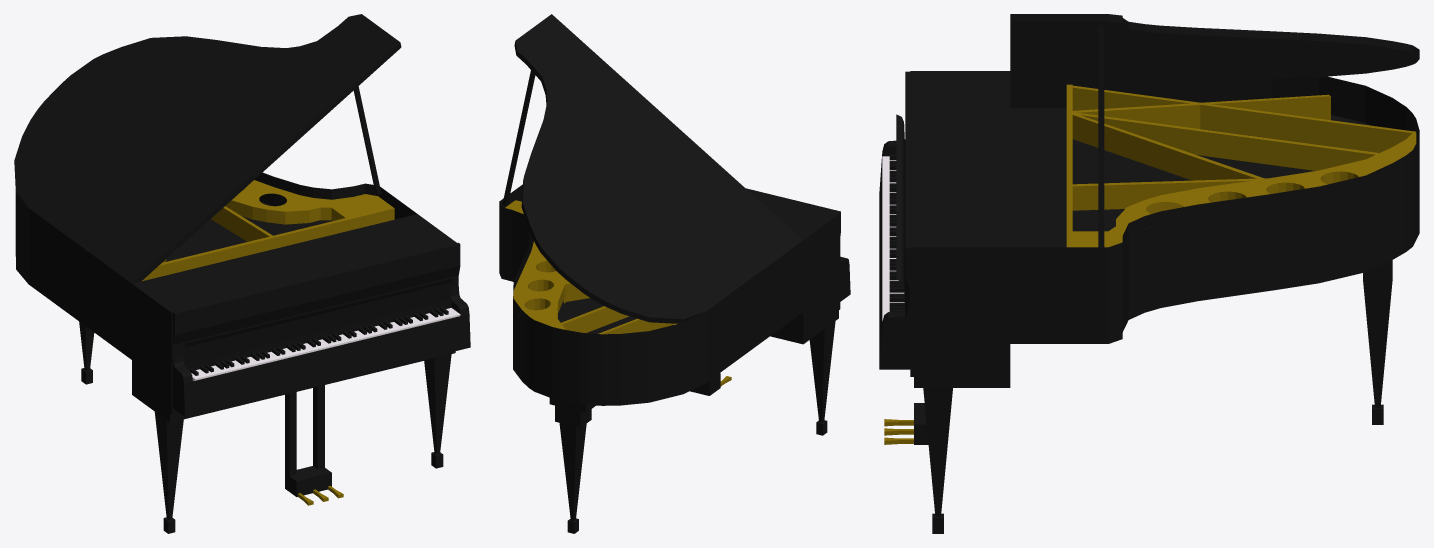
The model's file is b0-pianoaqueue.glb.
3 renders of one model, left to right at view 1: azimuth 30°, elevation 25°; view 2: azimuth 150°, elevation 25°; view 3: azimuth 270°, elevation 25°, orthographic. The views are drawn at different scales.
Visible parts, largest first — view 1: Cube.008, Cube.001, Cube.022_Cube.024, Cube.002, Cube.006, Cube.010, Cube.004, Cube.003, Cube.009, Cube.005; view 2: Cube.008, Cube.001, Cube.022_Cube.024, Cube.005, Cube.004, Cube.009; view 3: Cube.001, Cube.022_Cube.024, Cube.008, Cube.005, Cube.006, Cube.003, Cube.009, Cube.002.
Part boxes in pixels (x1=…): Cube.008: x1=14, y1=14, x2=401, y2=283; Cube.001: x1=15, y1=172, x2=470, y2=422; Cube.022_Cube.024: x1=142, y1=180, x2=394, y2=281; Cube.002: x1=184, y1=278, x2=452, y2=365; Cube.006: x1=190, y1=307, x2=460, y2=381; Cube.010: x1=285, y1=385, x2=331, y2=496; Cube.004: x1=154, y1=412, x2=183, y2=533; Cube.003: x1=424, y1=354, x2=451, y2=468; Cube.009: x1=353, y1=86, x2=381, y2=195; Cube.005: x1=79, y1=321, x2=94, y2=384; Cube.008: x1=514, y1=14, x2=802, y2=323; Cube.001: x1=499, y1=184, x2=850, y2=405; Cube.022_Cube.024: x1=505, y1=200, x2=677, y2=334; Cube.005: x1=549, y1=398, x2=595, y2=533; Cube.004: x1=809, y1=321, x2=835, y2=435; Cube.009: x1=502, y1=70, x2=535, y2=206; Cube.001: x1=879, y1=71, x2=1419, y2=387; Cube.022_Cube.024: x1=1066, y1=84, x2=1416, y2=247; Cube.008: x1=1010, y1=14, x2=1419, y2=78; Cube.005: x1=1363, y1=260, x2=1392, y2=424; Cube.006: x1=882, y1=154, x2=904, y2=321; Cube.003: x1=923, y1=388, x2=952, y2=533; Cube.009: x1=1098, y1=25, x2=1104, y2=247; Cube.002: x1=896, y1=114, x2=904, y2=303.
Bounding box in the file's own units: 1.32 × 1.78 × 1.7.
